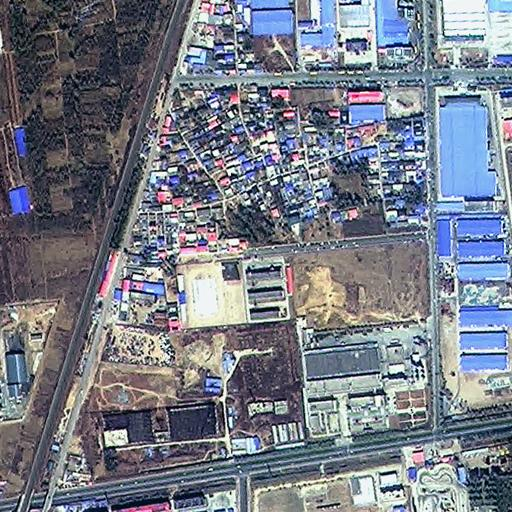school: (175, 252, 288, 330)
